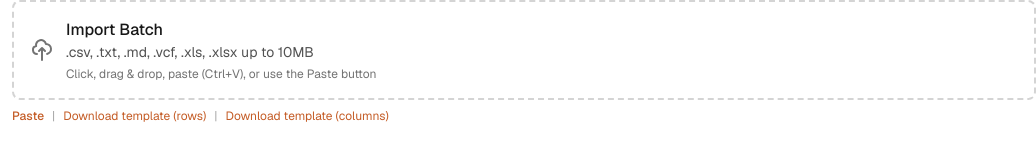
UploadBatchComponent › shows a hint instead of crashing when clipboard access is denied
The width and height of the screenshot is (1036, 165).
Click the button "Paste" at (28, 116), box [12, 108, 44, 124]
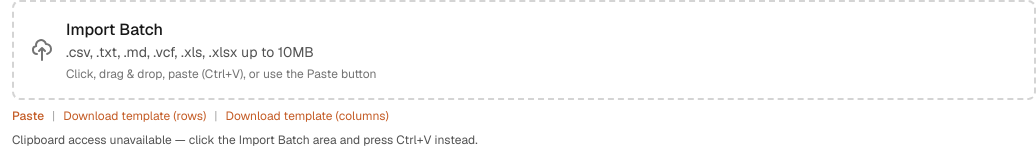
Check: the text "Clipboard access unavailable" is shown, box [12, 132, 478, 148]
